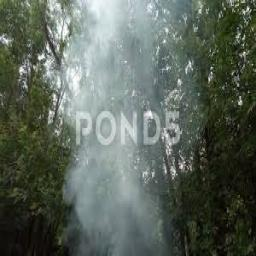Low smoke: (50, 0, 184, 255)
